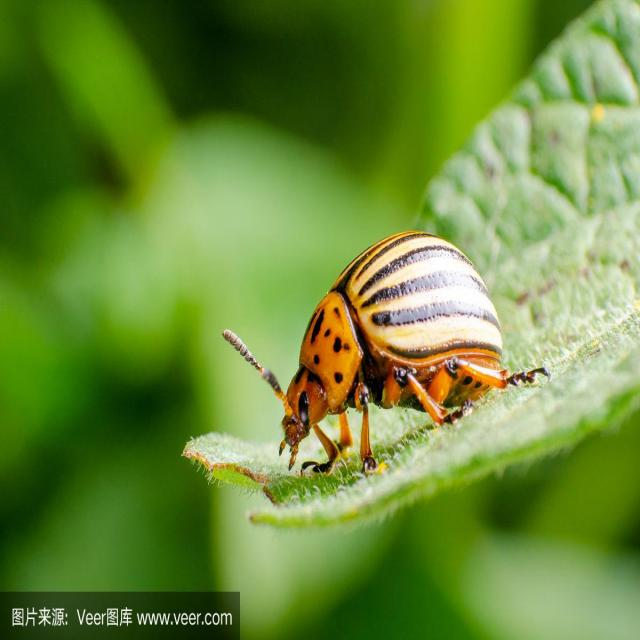ShuCaiHuaBanChong-Grown-: (285, 224, 541, 456)
